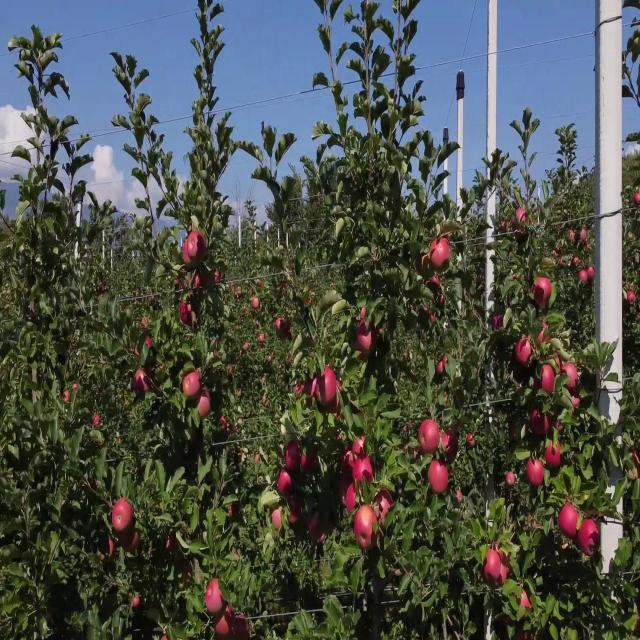apple: (356, 504, 377, 549), (112, 497, 134, 533), (420, 419, 440, 455), (580, 519, 600, 555), (316, 369, 336, 405), (428, 462, 449, 496), (560, 504, 580, 539), (376, 490, 395, 526), (96, 149, 116, 183), (484, 547, 503, 581), (308, 511, 326, 546), (440, 433, 460, 462), (120, 526, 140, 555), (432, 241, 452, 270), (496, 547, 512, 583), (300, 447, 319, 476), (208, 583, 224, 617), (536, 277, 552, 308), (184, 369, 201, 398), (216, 611, 235, 636), (564, 362, 580, 391), (288, 497, 303, 526), (628, 447, 640, 482), (356, 462, 375, 484), (184, 234, 196, 268), (548, 440, 562, 469), (344, 483, 357, 514), (528, 462, 544, 487), (352, 433, 367, 459), (532, 412, 548, 436), (280, 469, 293, 498), (180, 298, 193, 327), (516, 341, 533, 363), (500, 554, 512, 585), (340, 447, 354, 473), (100, 540, 115, 564), (276, 319, 292, 341), (224, 604, 237, 631), (288, 440, 300, 469), (200, 391, 212, 420), (180, 561, 192, 590), (416, 255, 431, 277), (340, 476, 355, 498), (516, 206, 528, 233), (236, 618, 251, 639), (520, 590, 532, 615), (544, 369, 556, 393), (193, 234, 208, 252), (528, 511, 540, 533), (356, 334, 372, 350), (272, 511, 284, 532), (356, 341, 367, 363), (196, 270, 207, 292), (197, 241, 208, 263), (136, 369, 146, 393), (304, 383, 314, 407), (540, 327, 552, 345), (304, 383, 314, 404), (228, 504, 240, 521), (188, 234, 199, 252), (356, 348, 369, 363), (552, 355, 563, 372), (168, 533, 177, 553), (572, 398, 581, 418), (440, 355, 448, 377), (144, 369, 152, 391), (360, 305, 368, 327), (336, 383, 344, 404), (360, 319, 370, 334), (296, 383, 305, 398), (132, 597, 140, 612), (556, 419, 564, 434), (512, 426, 520, 441), (468, 433, 476, 448), (580, 270, 588, 284), (84, 483, 96, 492), (496, 319, 504, 332), (508, 476, 516, 489), (64, 391, 72, 404), (636, 611, 640, 635), (536, 376, 542, 391), (588, 270, 596, 279), (144, 319, 150, 331), (148, 341, 152, 348)
